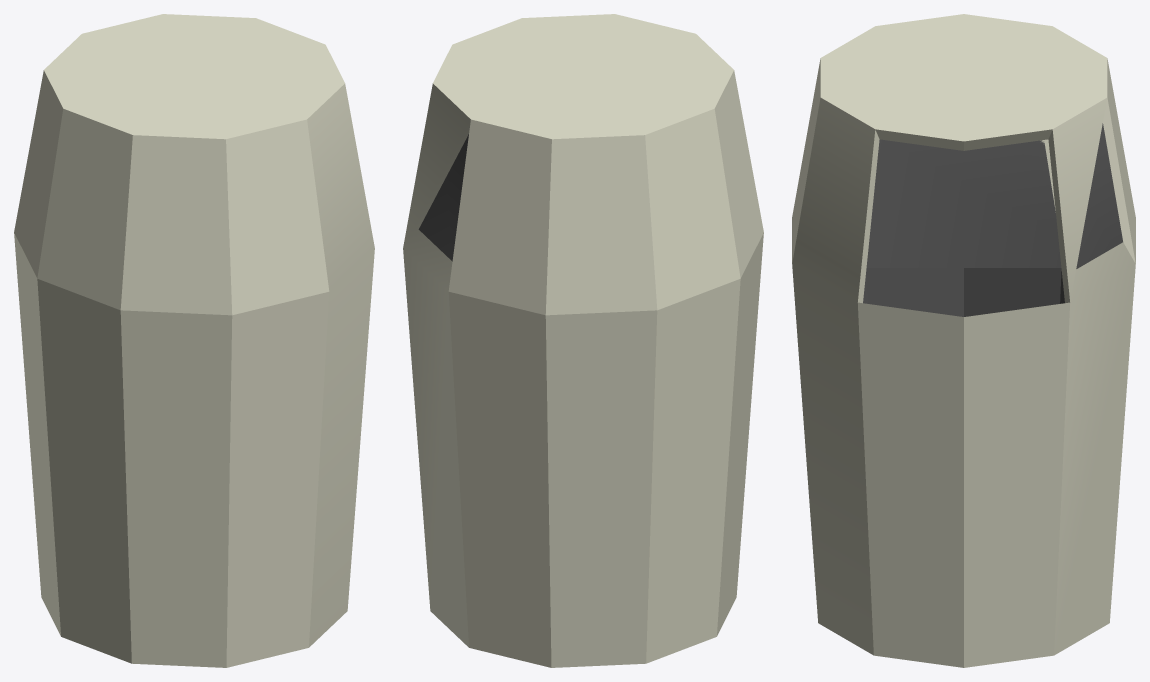
Rendered from TrashCan.fbx.
The picture shows the model from 3 angles, left to right: view 1: azimuth 30°, elevation 25°; view 2: azimuth 150°, elevation 25°; view 3: azimuth 270°, elevation 25°; orthographic projection.
Parts seen in each view (by area): view 1: TrashCan; view 2: TrashCan; view 3: TrashCan.
Boxes of the visible parts, left/top/right/bottom form: TrashCan: left=14, top=14, right=374, bottom=667; TrashCan: left=403, top=14, right=763, bottom=667; TrashCan: left=792, top=14, right=1135, bottom=667.
Size of the model in its own units: 70.64 by 113 by 67.18.
